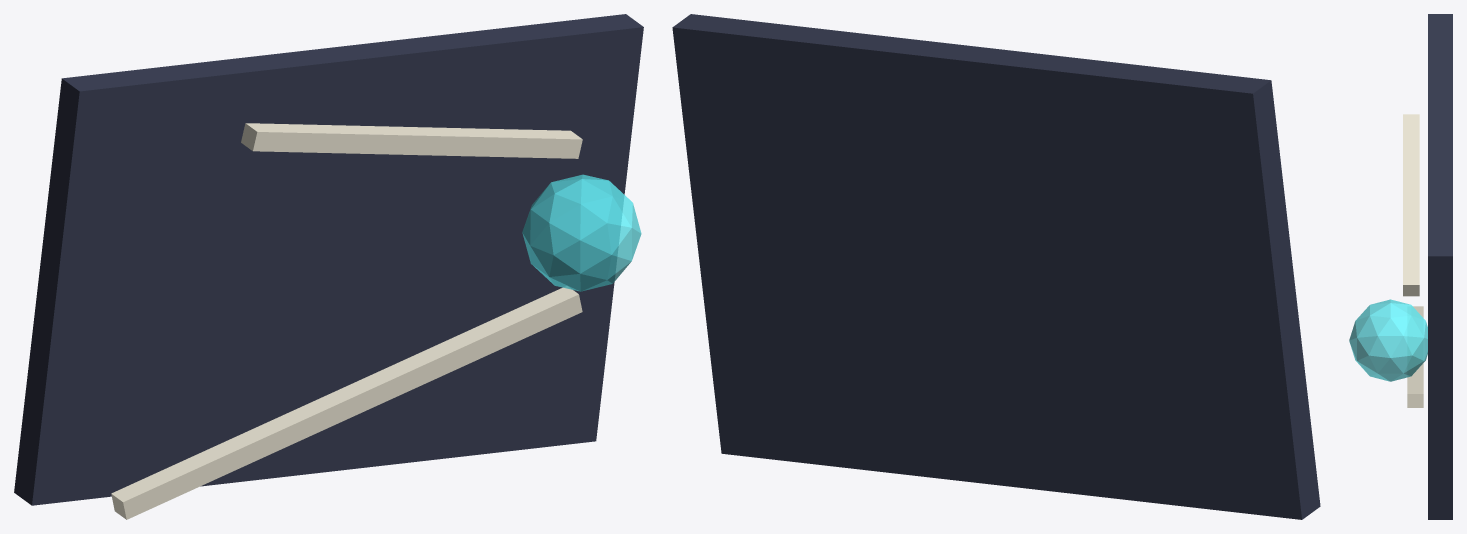
The model's file is 02_world_prop_polish.glb.
The picture shows the model from 3 angles, left to right: view 1: azimuth 30°, elevation 25°; view 2: azimuth 150°, elevation 25°; view 3: azimuth 270°, elevation 25°; orthographic projection. The views are drawn at different scales.
Visible parts, largest first — view 1: object_overlay_plate, edge_wear_a, glow_socket, edge_wear_b; view 2: object_overlay_plate; view 3: object_overlay_plate, glow_socket, edge_wear_b, edge_wear_a.
Boxes of the visible parts, left/top/right/bottom form: object_overlay_plate: left=14, top=14, right=643, bottom=505; edge_wear_a: left=111, top=286, right=582, bottom=519; glow_socket: left=522, top=174, right=641, bottom=291; edge_wear_b: left=241, top=123, right=582, bottom=158; object_overlay_plate: left=672, top=14, right=1320, bottom=519; object_overlay_plate: left=1428, top=14, right=1452, bottom=519; glow_socket: left=1349, top=299, right=1427, bottom=381; edge_wear_b: left=1403, top=114, right=1419, bottom=296; edge_wear_a: left=1407, top=306, right=1423, bottom=407.
Size of the model in its own units: 1.18 by 0.8798 by 0.25.
